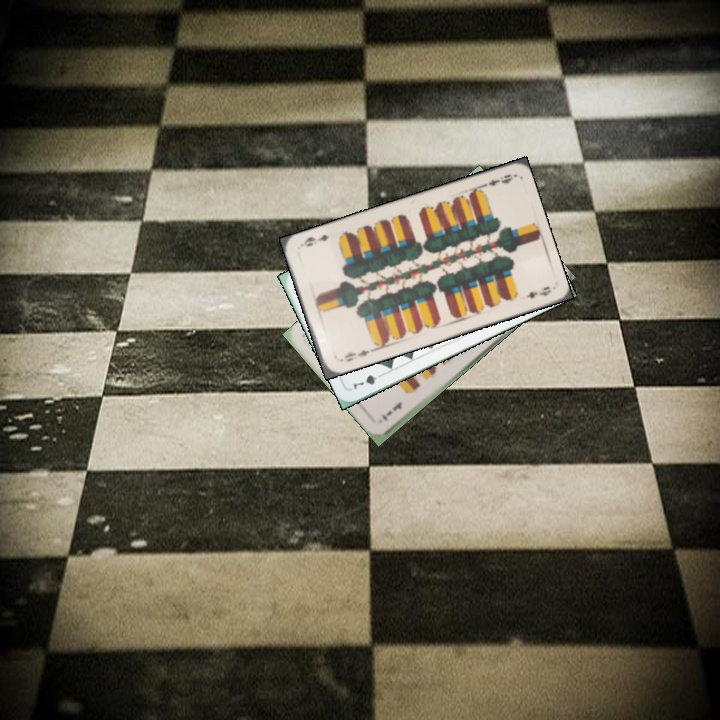E7: (378, 398, 405, 424)
E9: (476, 170, 516, 195), (335, 345, 372, 364)
G7: (349, 369, 387, 392)
